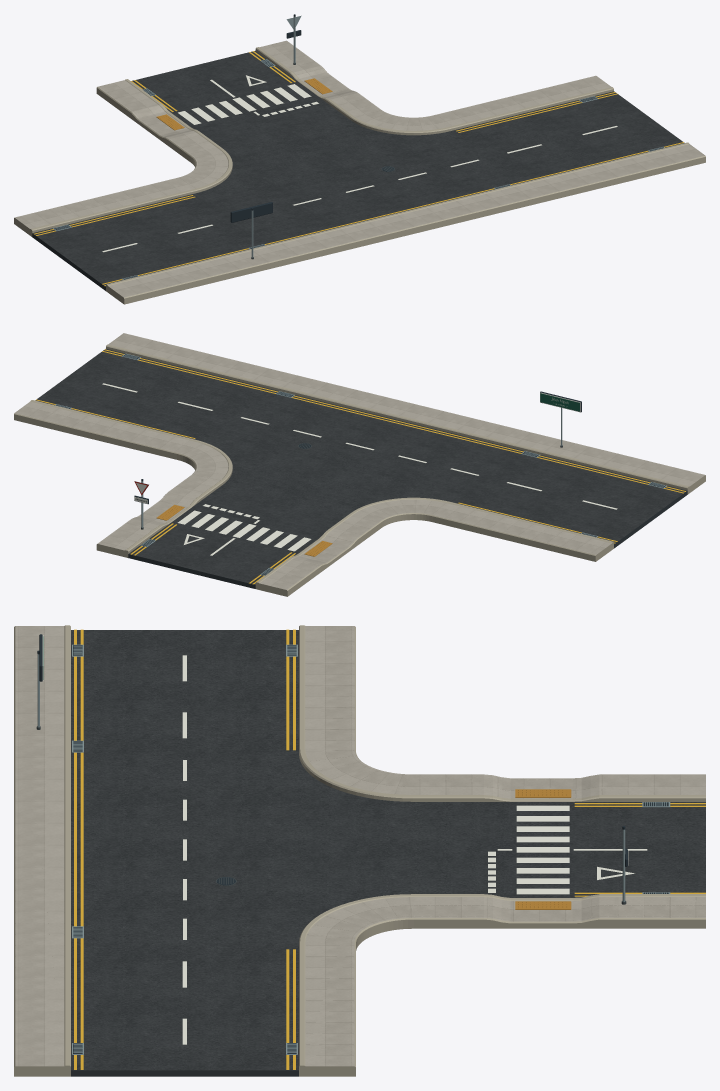
3 views of the same model, one above another, from view 1: azimuth 30°, elevation 25°; view 2: azimuth 150°, elevation 25°; view 3: azimuth 270°, elevation 25° (orthographic). The views are drawn at different scales.
Parts seen in each view (by area): view 1: Road Deck, Kerbs and Footways, Road Markings, Pedestrian Markings, Local Street Signs, Drainage and Utility Covers; view 2: Road Deck, Kerbs and Footways, Road Markings, Pedestrian Markings, Local Street Signs, Drainage and Utility Covers, Tactile Paving; view 3: Road Deck, Kerbs and Footways, Road Markings, Pedestrian Markings, Drainage and Utility Covers, Tactile Paving.
Boxes of the visible parts, <box> form: Road Deck: <box>32,50,684,290</box>; Kerbs and Footways: <box>14,40,705,304</box>; Road Markings: <box>34,51,683,285</box>; Pedestrian Markings: <box>178,84,311,124</box>; Local Street Signs: <box>230,202,272,259</box>; Drainage and Utility Covers: <box>53,59,664,279</box>; Road Deck: <box>35,349,687,588</box>; Kerbs and Footways: <box>14,333,705,596</box>; Road Markings: <box>36,349,685,584</box>; Pedestrian Markings: <box>177,510,311,551</box>; Local Street Signs: <box>540,391,581,447</box>; Drainage and Utility Covers: <box>55,353,666,575</box>; Tactile Paving: <box>156,504,332,556</box>; Road Deck: <box>71,630,705,1076</box>; Kerbs and Footways: <box>14,625,705,1076</box>; Road Markings: <box>74,629,705,1069</box>; Pedestrian Markings: <box>516,805,569,894</box>; Drainage and Utility Covers: <box>72,644,670,1054</box>; Tactile Paving: <box>515,789,571,909</box>.
Size of the model in its own units: 32 by 3.04 by 21.25.
13 materials, 2 textured.
